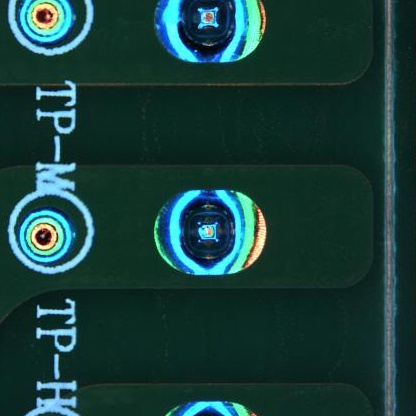spot: (154, 188, 267, 280), (153, 1, 268, 65), (18, 208, 77, 264), (14, 1, 77, 46), (161, 401, 257, 416)
